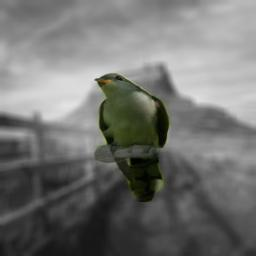Cuckoo: (94, 72, 171, 202)
